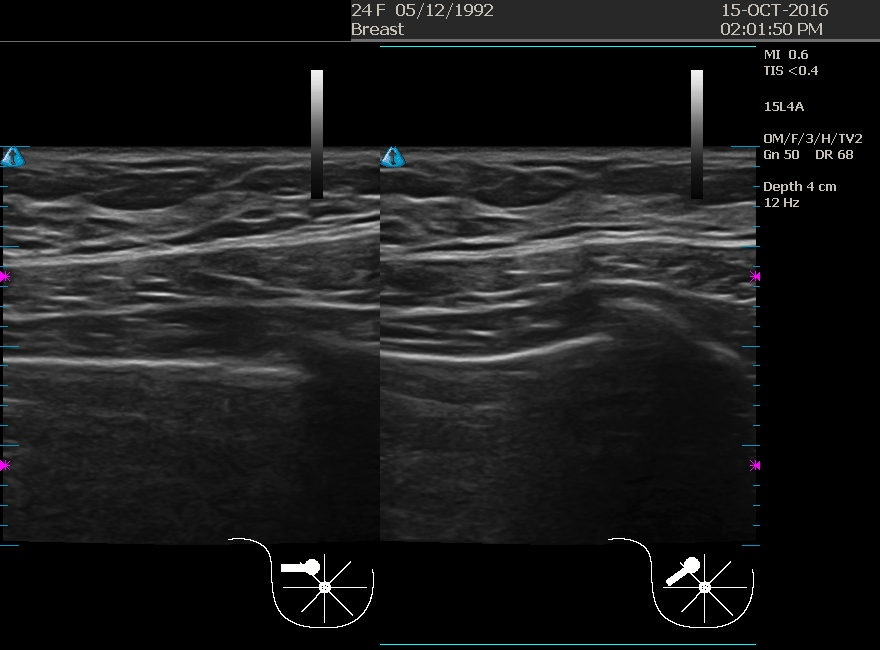BIRADS_3: (37, 150, 237, 350), (407, 150, 607, 350)
